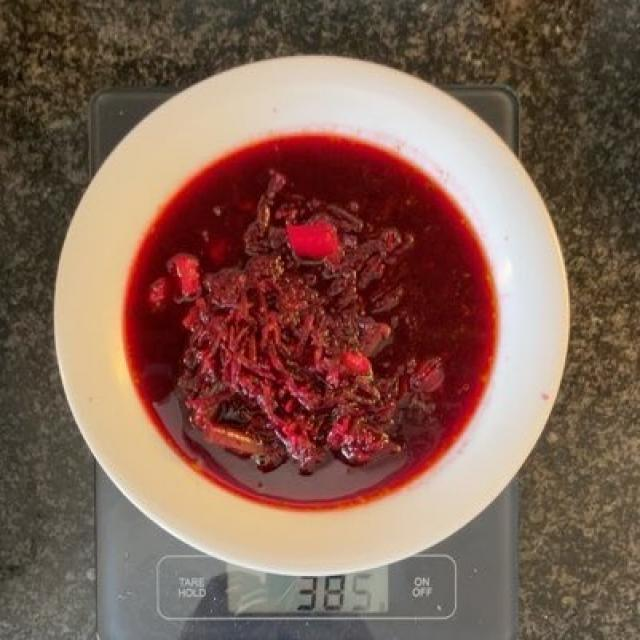beetroot: (132, 146, 492, 495)
